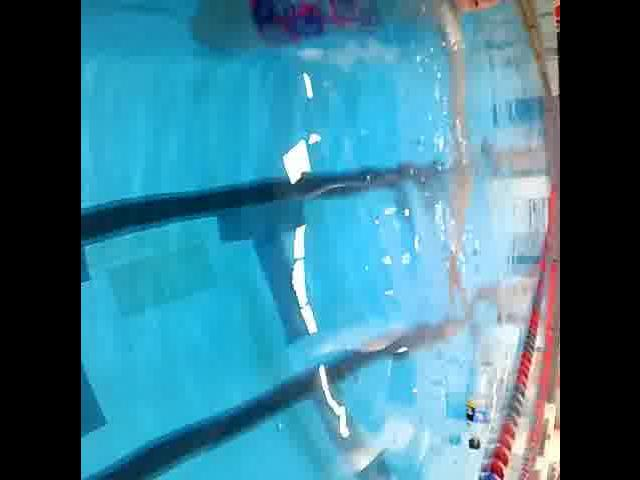Bottle: (453, 336, 505, 473)
